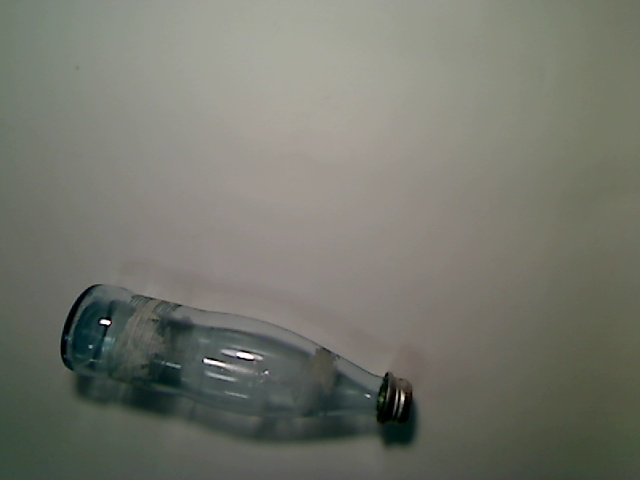bottle: (61, 284, 414, 425)
